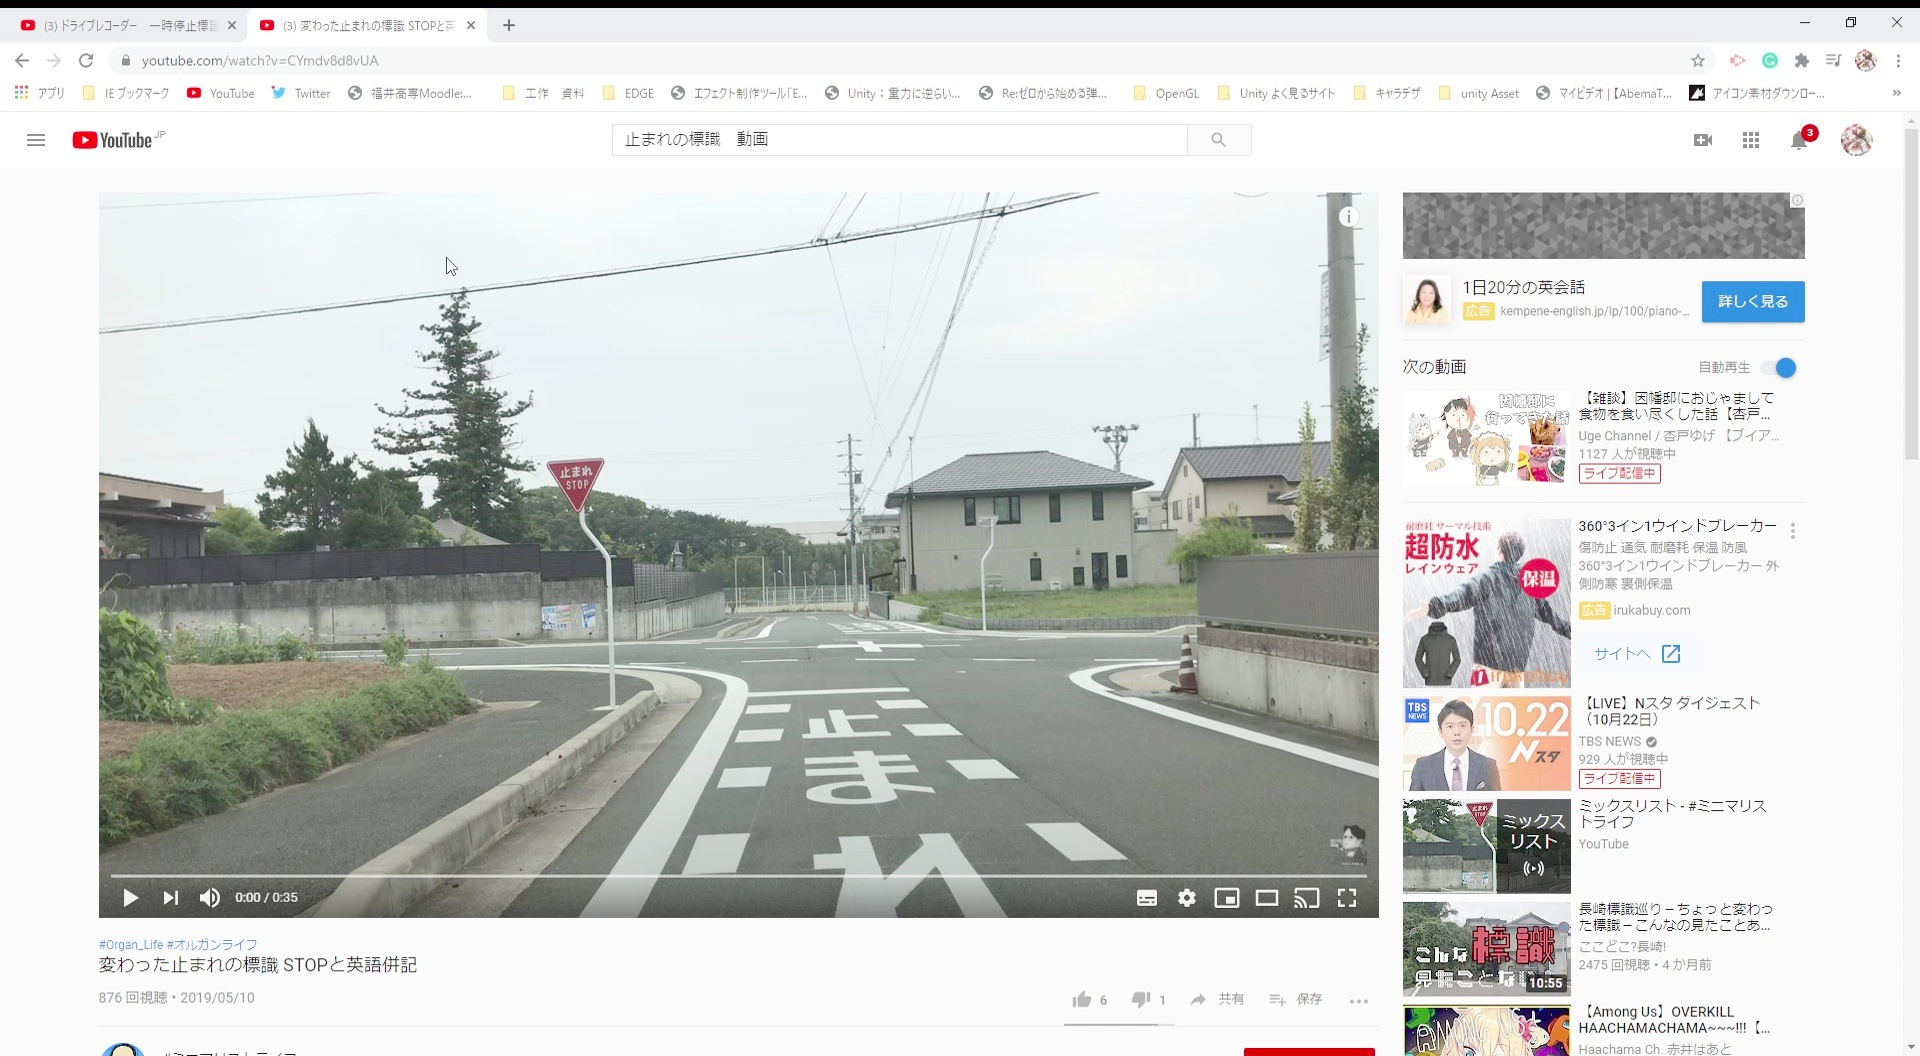Regulatory_sign_triangle: (543, 442, 617, 518)
